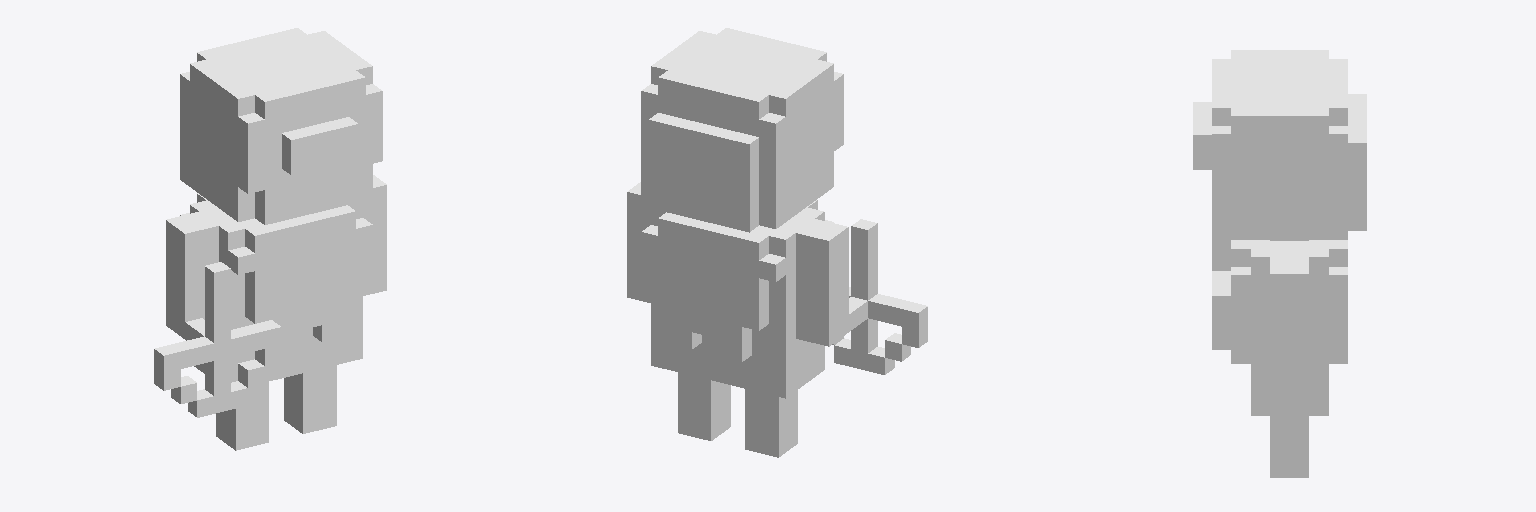
Rendered from crossbow.obj.
The picture shows the model from 3 angles: view 1: azimuth 30°, elevation 25°; view 2: azimuth 150°, elevation 25°; view 3: azimuth 270°, elevation 25°; orthographic projection.
Visible parts, largest first — view 1: object 1; view 2: object 1; view 3: object 1.
Boxes of the visible parts, box(x1,y1,x2,y2) form: object 1: box(154, 28, 386, 450); object 1: box(627, 28, 927, 457); object 1: box(1193, 50, 1366, 477).
Size of the model in its own units: 1.5 by 2.1 by 0.9.